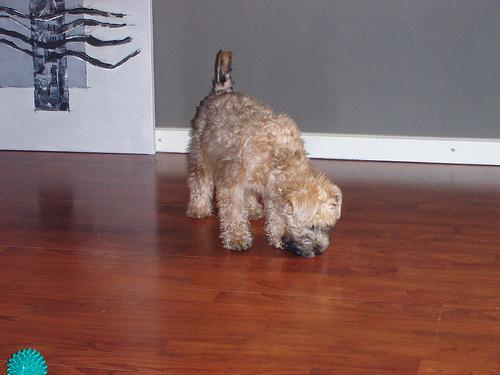dog-wheaten_terrier: (281, 182, 340, 255)
